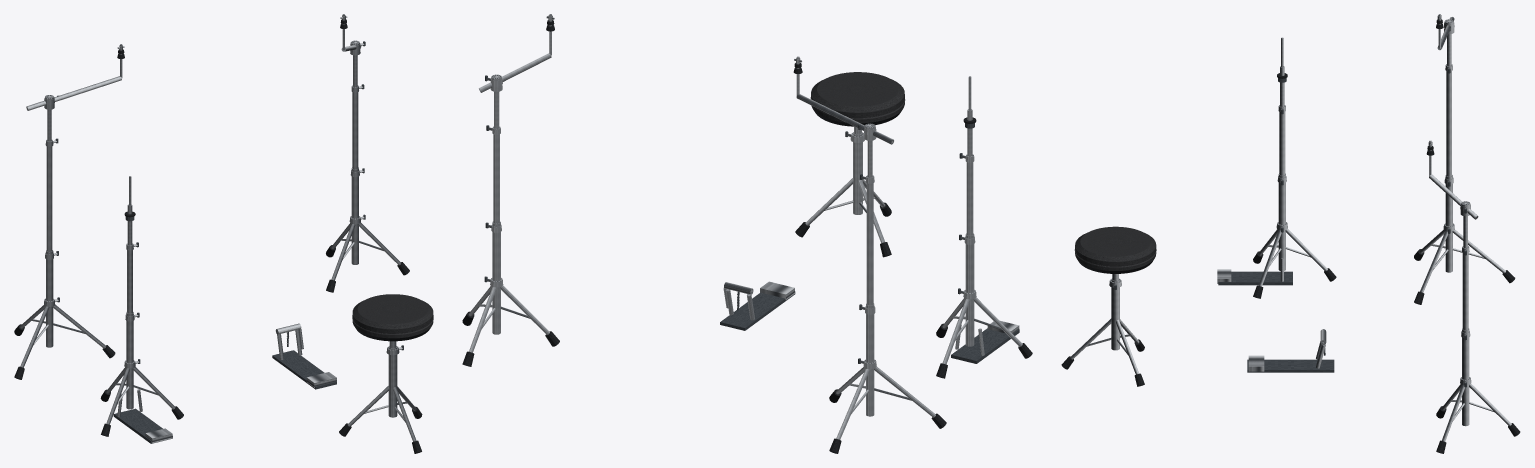
The model's file is complete_hardware.obj.
3 renders of one model, left to right at view 1: azimuth 30°, elevation 25°; view 2: azimuth 150°, elevation 25°; view 3: azimuth 270°, elevation 25°, orthographic. The views are drawn at different scales.
Parts seen in each view (by area): view 1: drums; view 2: drums; view 3: drums.
Boxes of the visible parts, x1,y1,x2,y2 form: drums: (14,14,433,453); drums: (462,14,1032,453); drums: (1061,14,1520,453).
Size of the model in its own units: 1.73 by 1.23 by 1.7.
